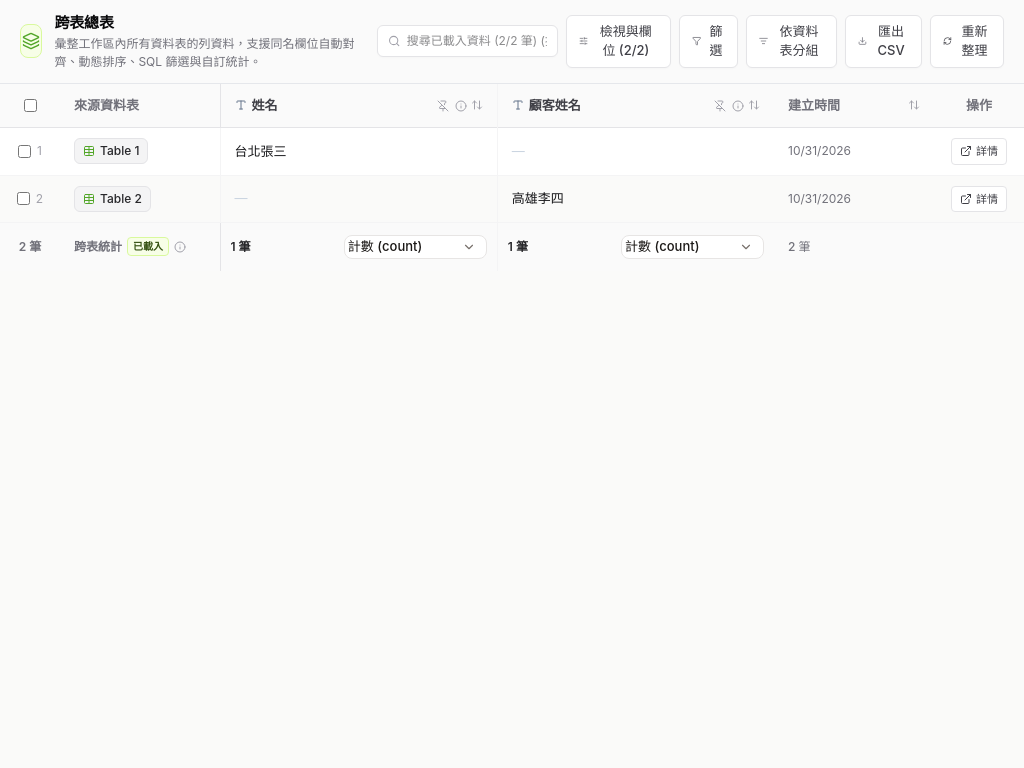
Scenario: MasterGridView UI Component › opens FieldMappingModal and allows configuring synonym aliases
Expected: the text "台北張三" is shown, [234, 142, 286, 161]
Note: Open Integrated Hub
Click the button with test id "toggle-columns-btn" at (618, 41), box [566, 15, 671, 68]
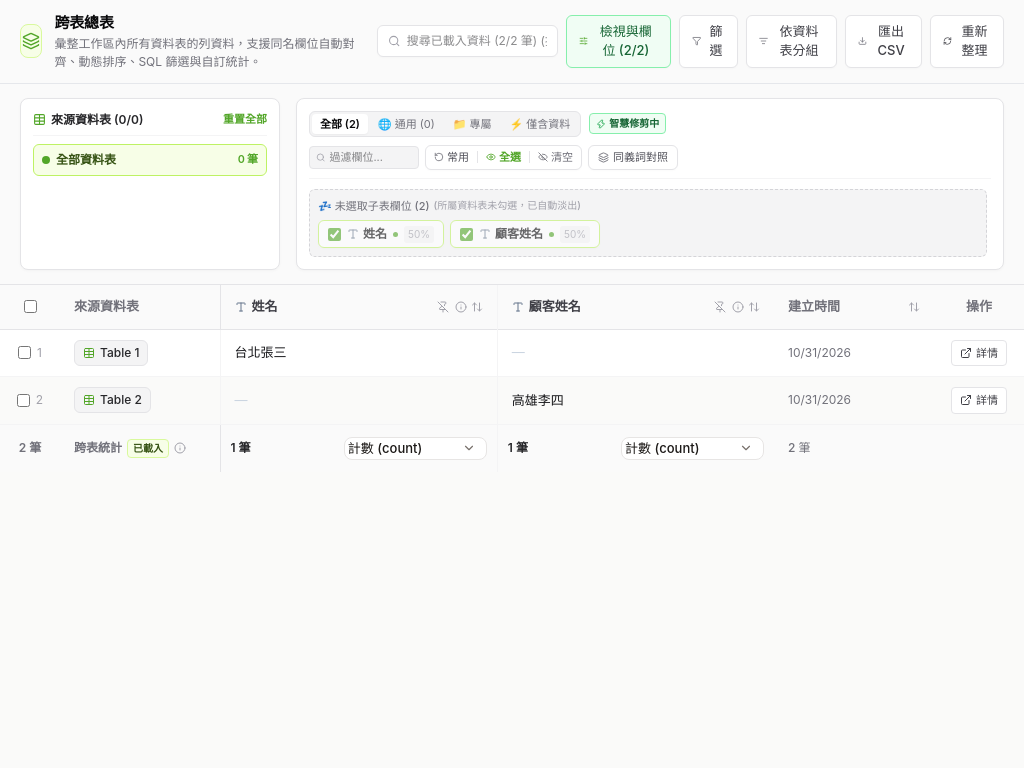
Note: Open Field Mapping Modal from Hub
Click the button with test id "toggle-field-mapping-btn" at (633, 157), box [588, 145, 678, 170]
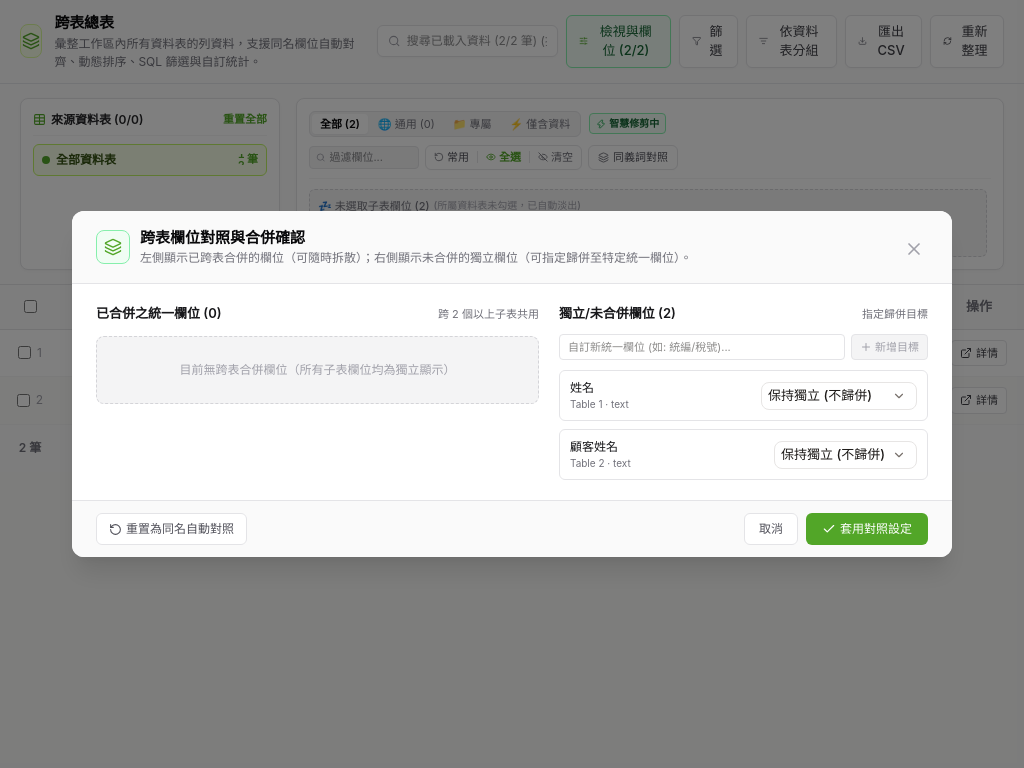
Now the element with test id "field-mapping-modal" is shown, box [72, 211, 952, 557]
Now the heading "跨表欄位對照與合併確認" is shown, box [140, 228, 305, 247]
Note: Map '顧客姓名' (field_205) to '姓名'
Select "歸併至「姓名」" in the dropdown with test id "merge-select-field_205" at (846, 455), box [774, 441, 917, 468]
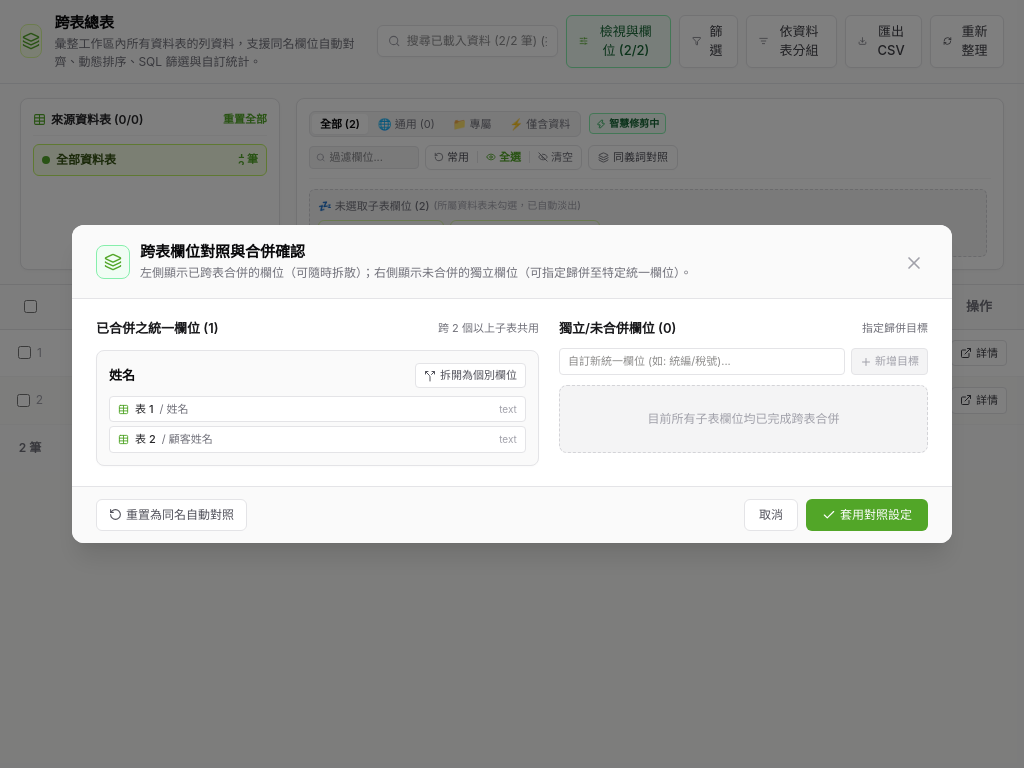
Note: Apply mapping
Click the button with test id "apply-mapping-btn" at (867, 515), box [806, 499, 928, 531]
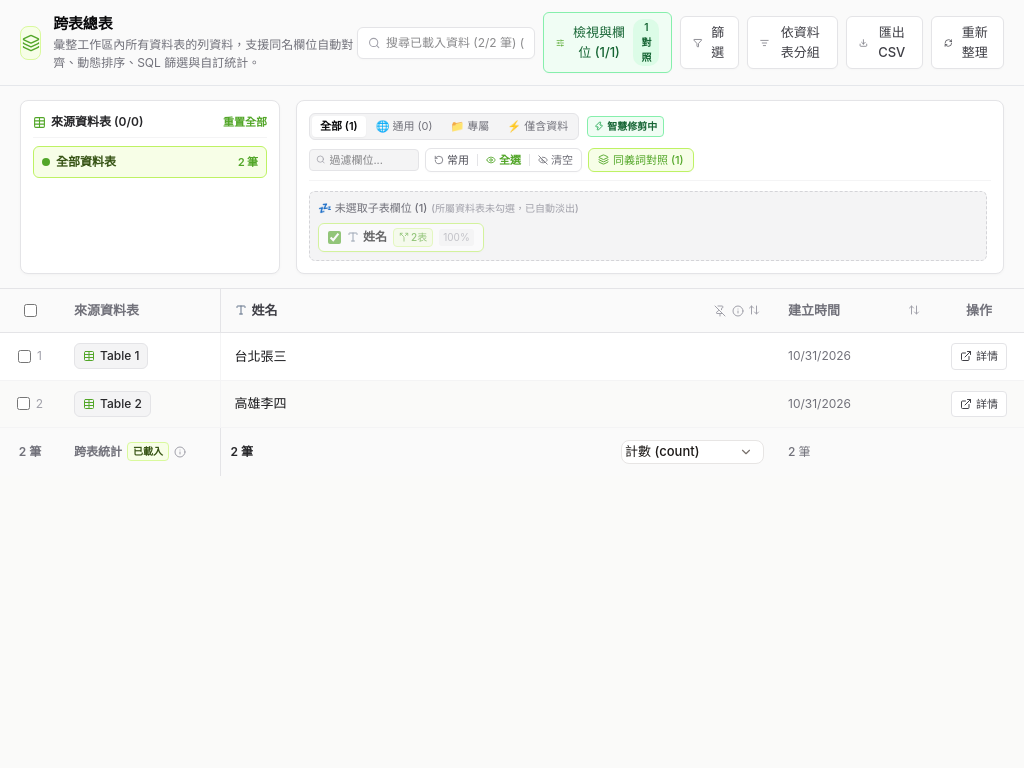
Expected: the column heading with test id "sort-header-姓名" is shown, [220, 288, 774, 332]
Now the element with test id "field-mapping-modal" is gone
